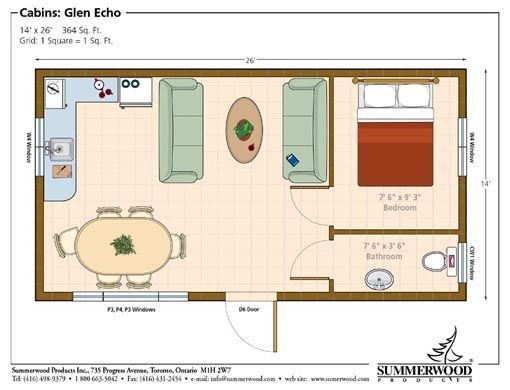door: (224, 291, 282, 356), (285, 185, 335, 230), (288, 241, 333, 282)
room: (27, 65, 226, 305), (326, 66, 468, 233), (226, 229, 469, 303), (217, 61, 341, 191)
wall: (32, 65, 469, 80), (277, 288, 468, 306), (31, 174, 46, 303), (328, 227, 459, 240), (327, 77, 342, 188), (186, 285, 227, 308), (31, 69, 49, 119), (456, 176, 468, 245), (35, 288, 74, 304)
window: (74, 287, 188, 307), (32, 117, 50, 175), (457, 117, 469, 177), (456, 245, 467, 283)
